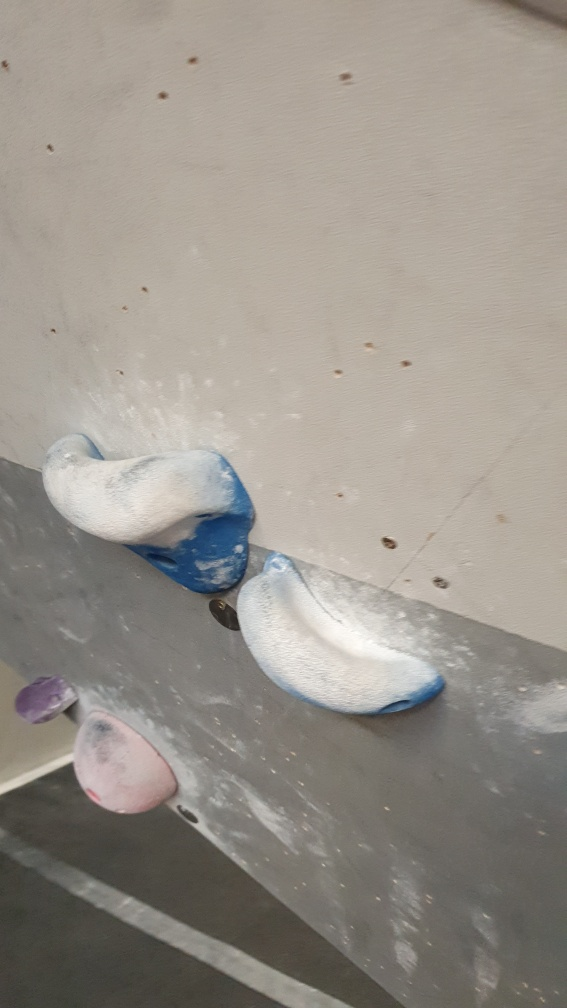Hand Start: (206, 596, 243, 635), (178, 801, 200, 827)
Jug: (42, 428, 254, 595), (234, 554, 447, 718)
Sloper: (74, 710, 177, 818)
